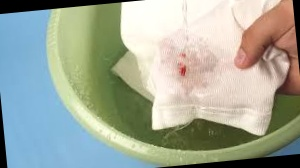blood: (177, 52, 190, 77)
